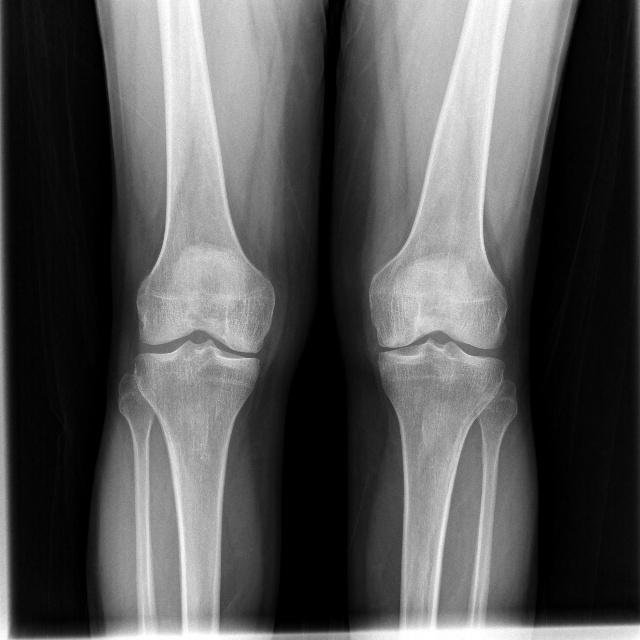Knee: (364, 275, 509, 423), (134, 276, 273, 418)
